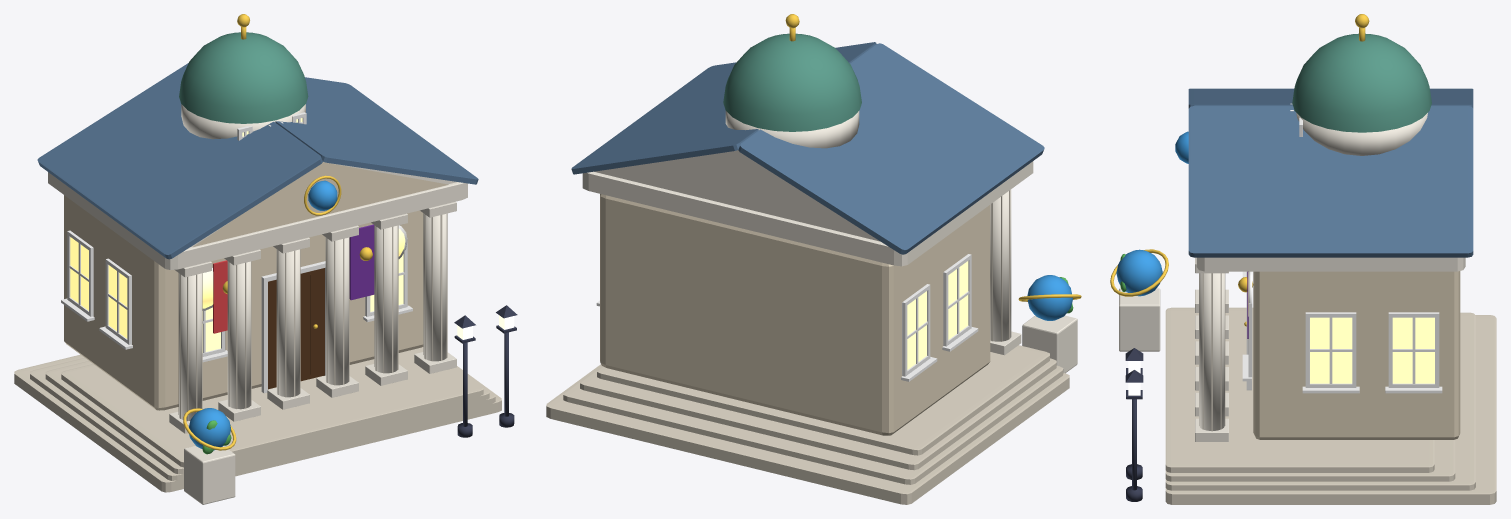
Rendered from muzeum.glb.
The picture shows the model from 3 angles, left to right: view 1: azimuth 30°, elevation 25°; view 2: azimuth 150°, elevation 25°; view 3: azimuth 270°, elevation 25°; orthographic projection. The views are drawn at different scales.
Parts seen in each view (by area): view 1: muzeum; view 2: muzeum; view 3: muzeum.
Part boxes in pixels (x1,y1,x2,y2): muzeum: [14, 14, 517, 504]; muzeum: [546, 14, 1081, 504]; muzeum: [1110, 14, 1496, 504].
Size of the model in its own units: 8.2 by 8.55 by 7.47.
Materials: 3 (3 with a texture image).
